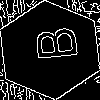B: (25, 25, 78, 63)
